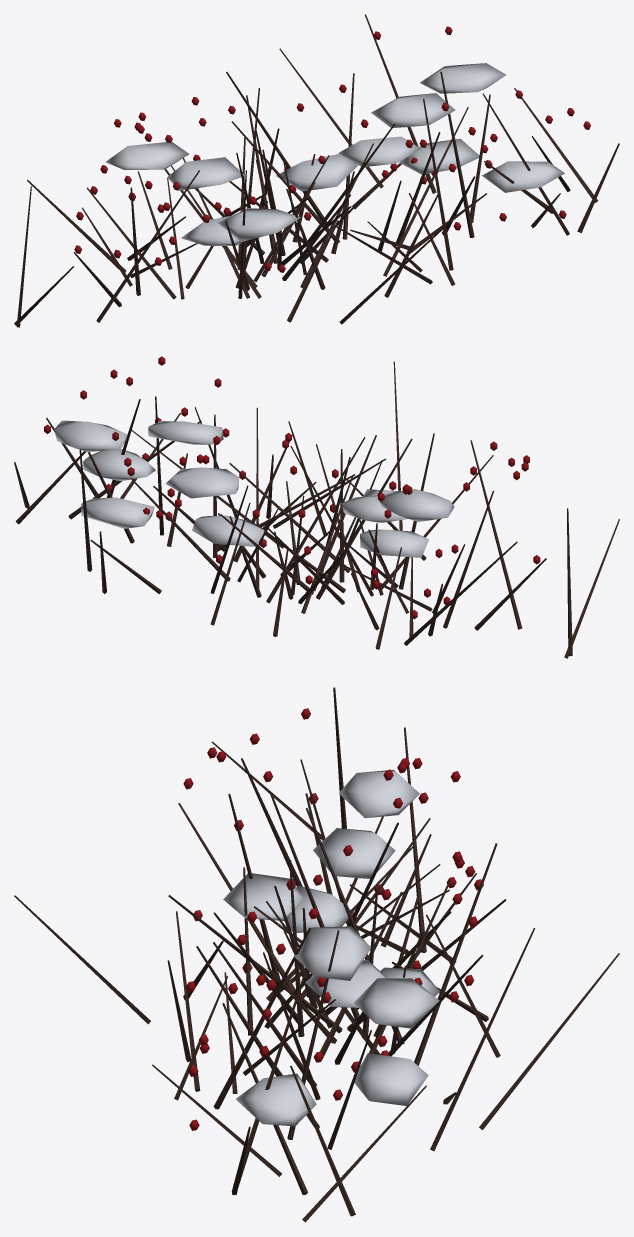
Rendered from rose_briar_overgrown.glb.
The picture shows the model from 3 angles, top to bottom: view 1: azimuth 30°, elevation 25°; view 2: azimuth 150°, elevation 25°; view 3: azimuth 270°, elevation 25°; orthographic projection. The views are drawn at different scales.
Visible parts, largest first — view 1: rose_briar_overgrown; view 2: rose_briar_overgrown; view 3: rose_briar_overgrown.
Boxes of the visible parts, x1=… form: rose_briar_overgrown: x1=14, y1=14, x2=619, y2=327; rose_briar_overgrown: x1=14, y1=356, x2=619, y2=658; rose_briar_overgrown: x1=14, y1=687, x2=619, y2=1222.
Bounding box in the file's own units: 8.21 × 2.26 × 5.89.
